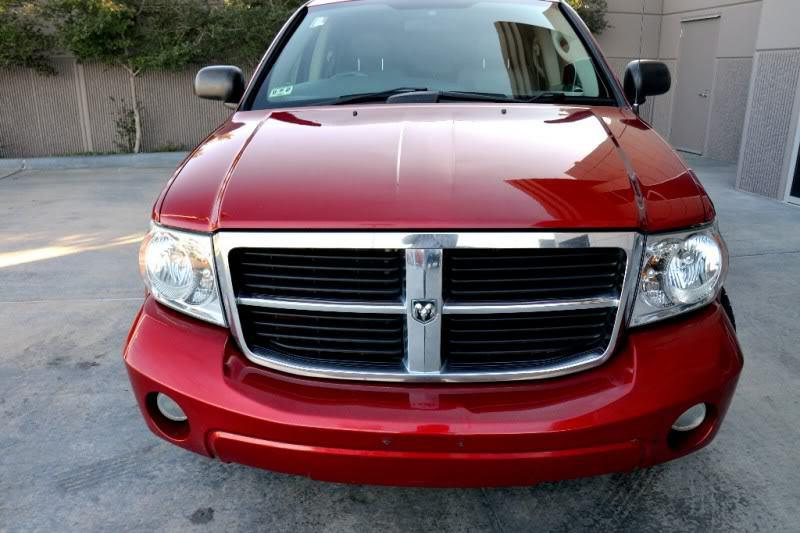Car: (44, 1, 754, 496)
